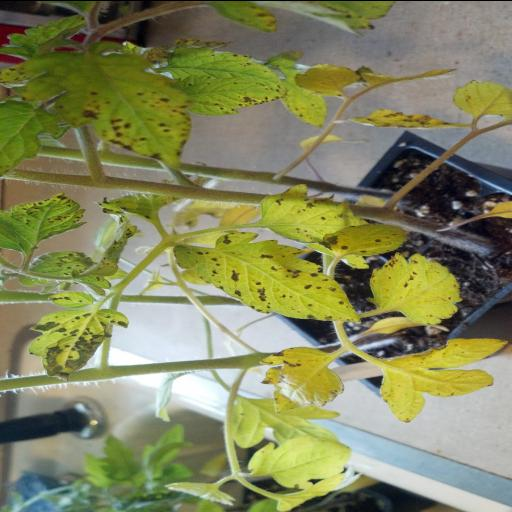Septoria: (0, 40, 194, 170), (170, 235, 360, 327), (370, 335, 510, 427), (26, 304, 130, 380), (364, 250, 464, 326), (258, 180, 366, 244), (258, 344, 342, 414), (0, 190, 88, 252), (176, 74, 290, 116), (166, 46, 276, 80), (320, 222, 411, 256), (342, 107, 468, 129)
